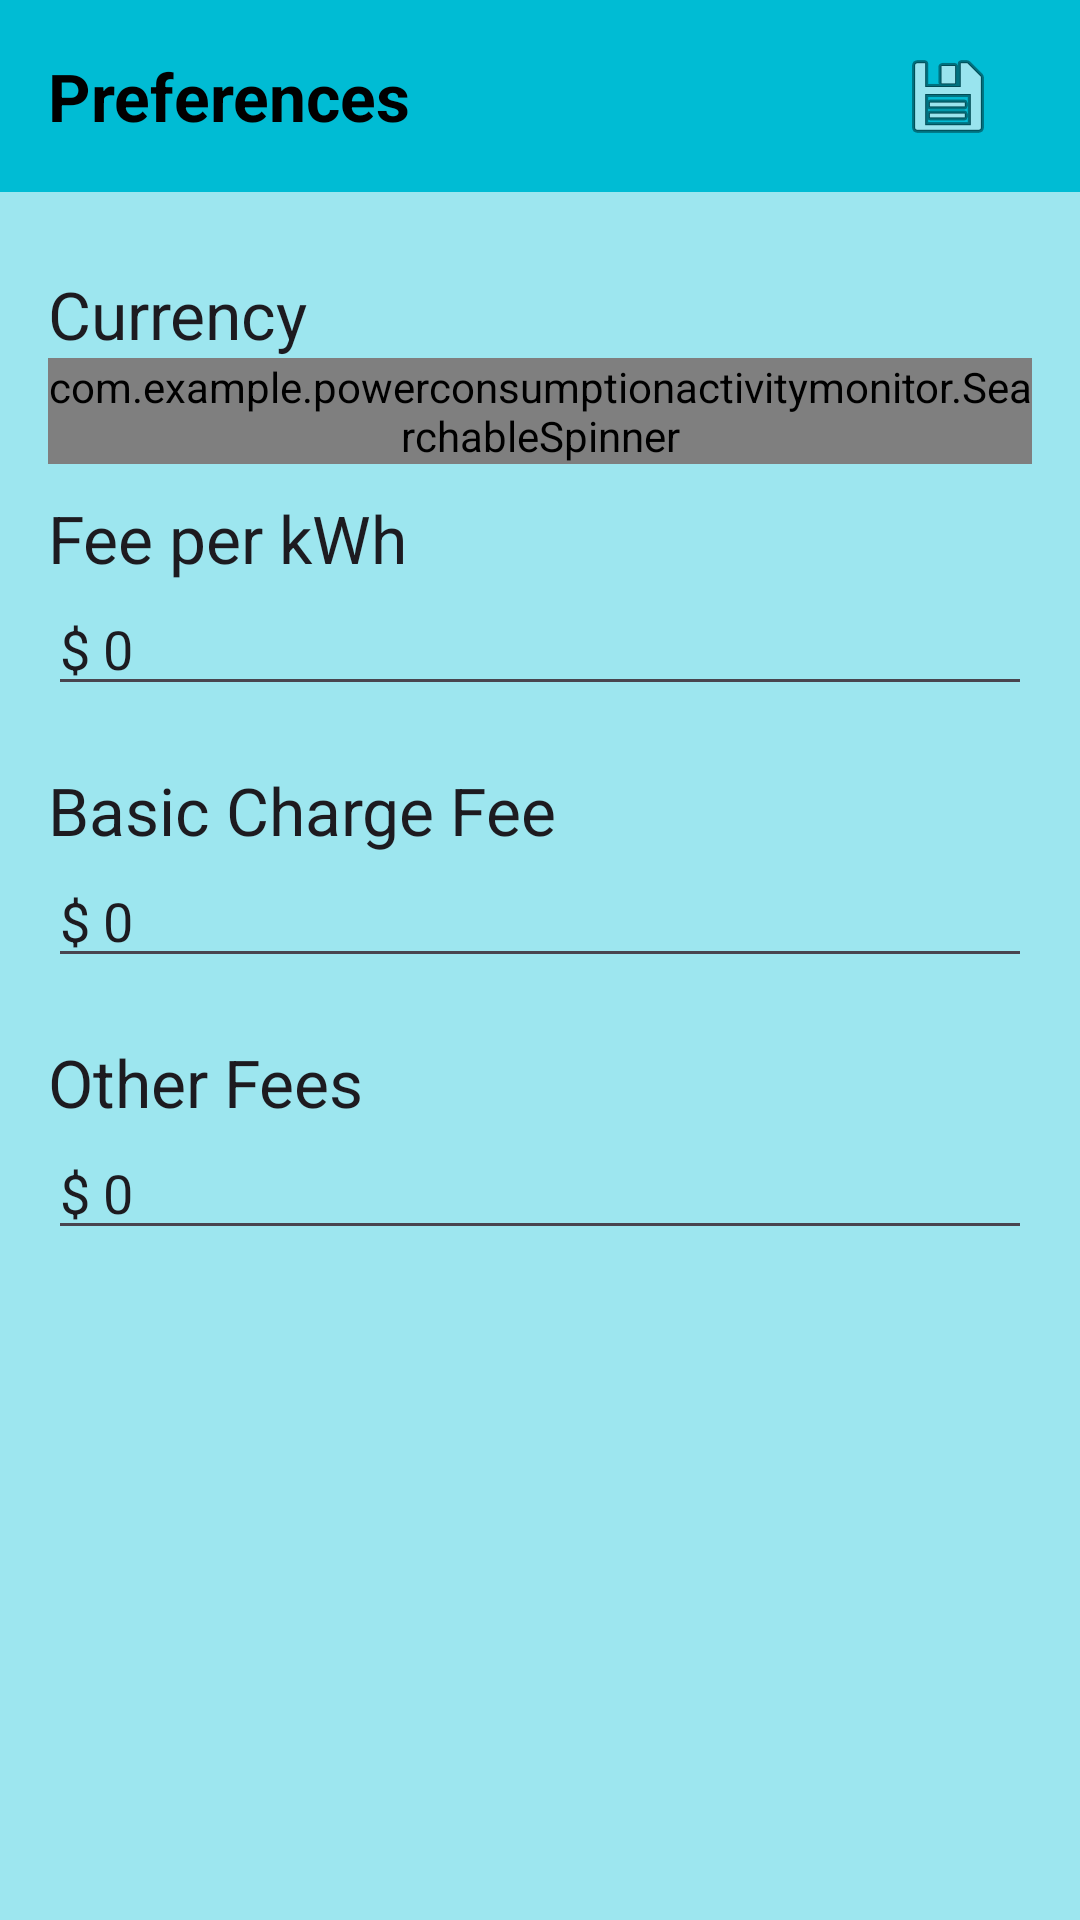

Screen size 1080x1920. Icon name, then its center in pixels as [x,y]:
save: [948,96]
